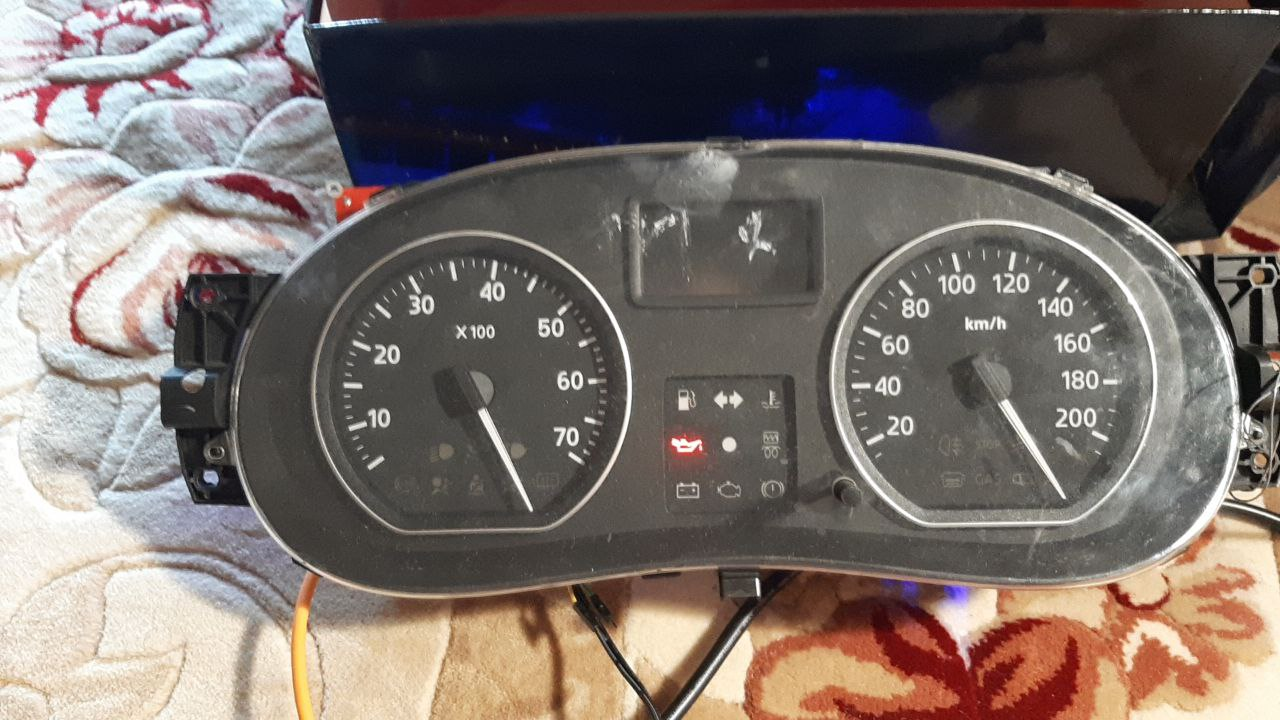oil: (665, 433, 709, 458)
